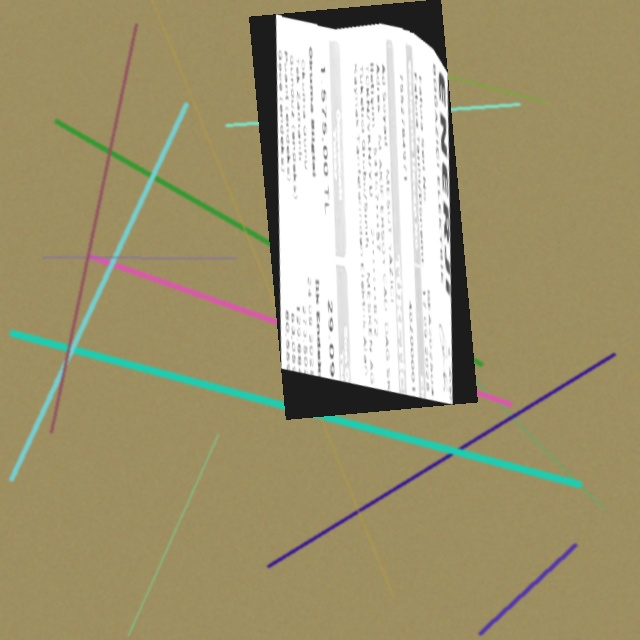electricity-bill: (248, 0, 477, 420)
